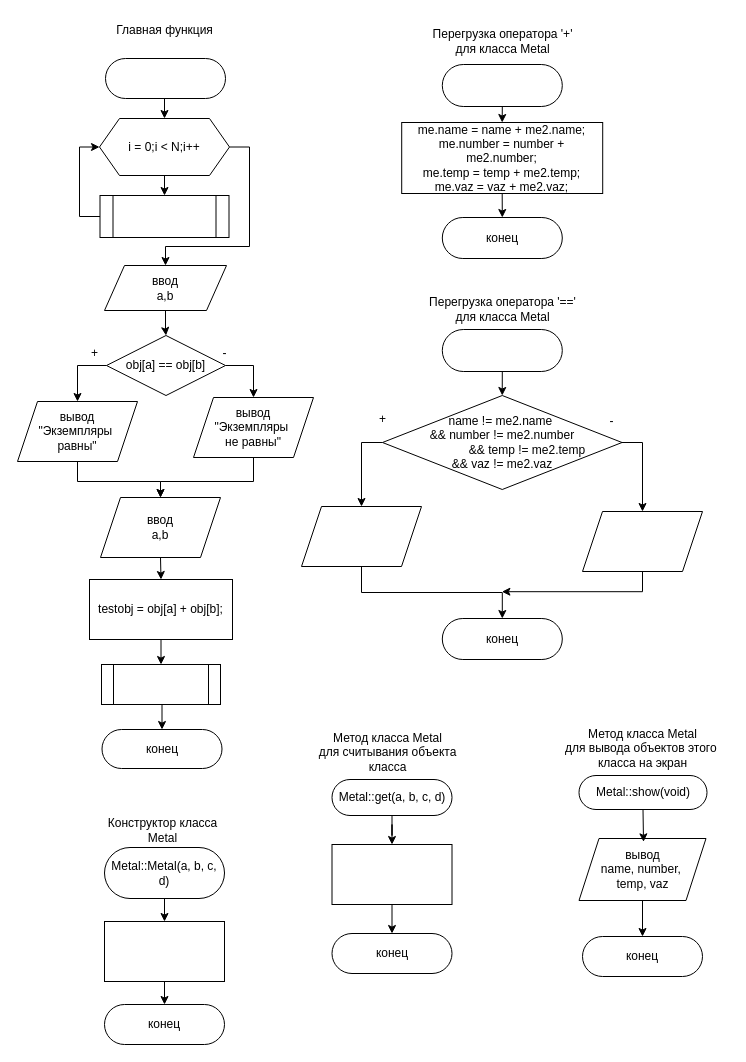
Image size: 746x1062. Some labels were removed from this diagram. The shapes that lost their labels are listed below. From the top down, each one's centre as x and y in pixels, then its label:
At (165,78): "начало".
At (501,85): "Metal::operator + (Metal me2)".
At (164,216): "obj[i].show()".
At (501,350): "Metal::operator == (Metal me2)".
At (361,536): "Экземпляры равны".
At (642,541): "Экземпляры не равны".
At (160,684): "testobj.show()".
At (391,874): "a = name; b = number; c = temp; d = vaz;".
At (164,951): "name = a; number = b; temp = c; vaz = d;".
